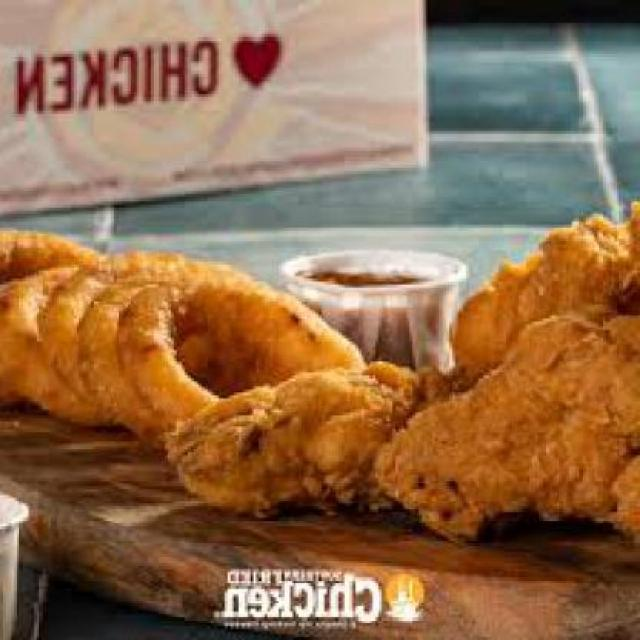onion rings: (2, 224, 390, 436)
